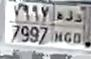7: (38, 6, 49, 46), (11, 4, 20, 43)
9: (29, 4, 39, 44), (21, 5, 30, 43)
D: (73, 11, 82, 45)
G: (65, 10, 73, 44)
H: (53, 9, 63, 43)
